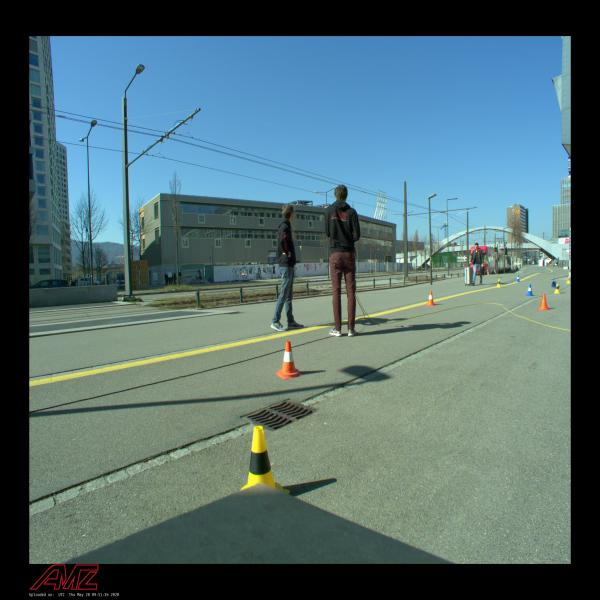blue_cone: (525, 284, 533, 296), (551, 281, 560, 288), (516, 275, 520, 282)
orange_cone: (276, 341, 302, 379), (538, 293, 550, 310), (426, 291, 436, 306)
yellow_cone: (239, 426, 290, 495), (554, 284, 560, 294), (496, 278, 501, 288), (566, 276, 570, 284)
